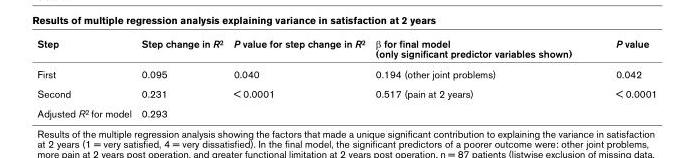table: (36, 36, 656, 118)
table column: (369, 36, 593, 118), (227, 36, 369, 118), (36, 36, 135, 118), (135, 36, 227, 118), (593, 36, 656, 118)
table column header: (36, 36, 656, 63)
table row: (36, 36, 656, 63), (36, 63, 656, 83), (36, 83, 656, 103), (36, 103, 656, 118)
